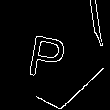P_N: (30, 24, 75, 80)
